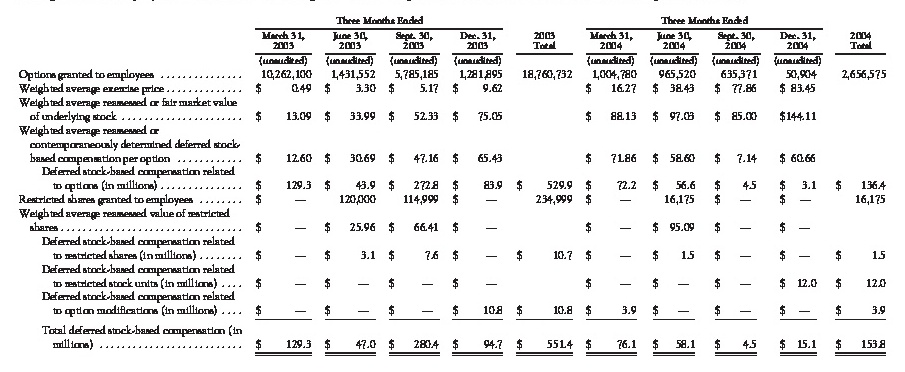table: (0, 0, 905, 372)
